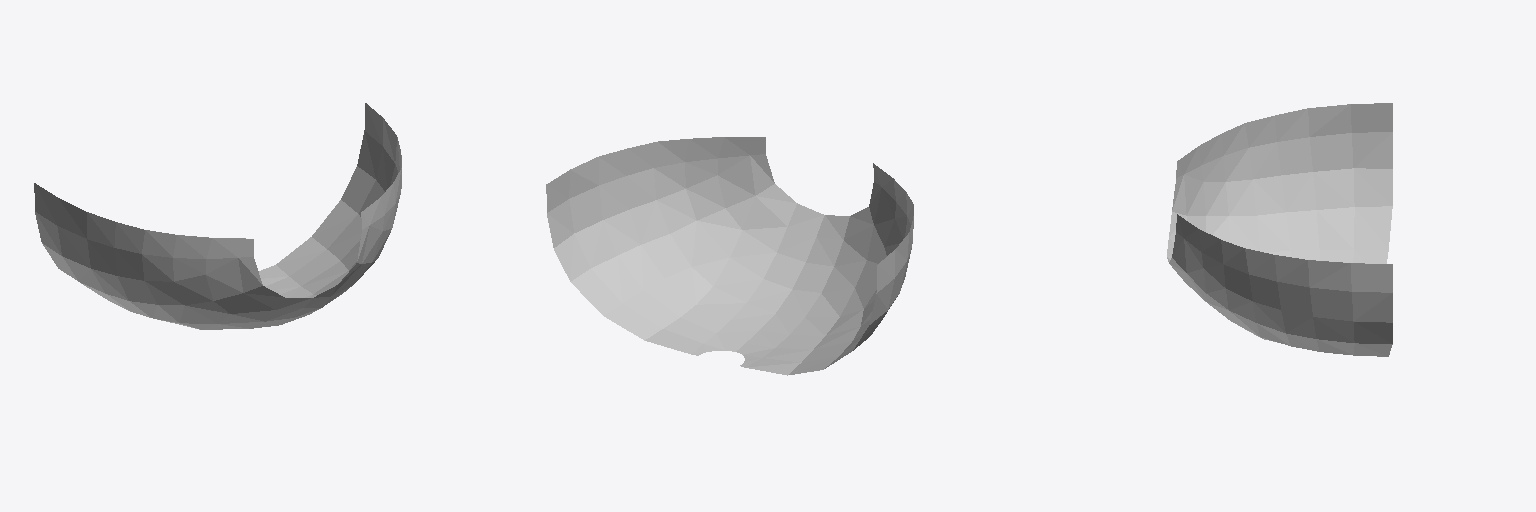
Rendered from mouth.obj.
3 views of the same model, side by side, from view 1: azimuth 30°, elevation 25°; view 2: azimuth 150°, elevation 25°; view 3: azimuth 270°, elevation 25° (orthographic).
Visible parts, largest first — view 1: Body__mMouth; view 2: Body__mMouth; view 3: Body__mMouth.
Part boxes in pixels (left/top/right/bottom): Body__mMouth: left=34, top=103, right=401, bottom=329; Body__mMouth: left=546, top=137, right=913, bottom=375; Body__mMouth: left=1167, top=103, right=1392, bottom=356.
Size of the model in its own units: 5.09 by 2.13 by 3.03.